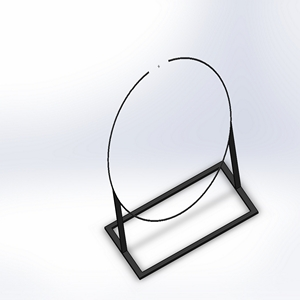circle: (103, 55, 261, 280)
